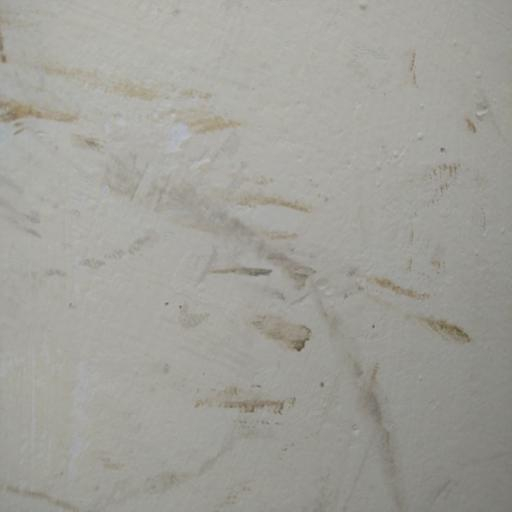stain: (6, 41, 500, 506)
